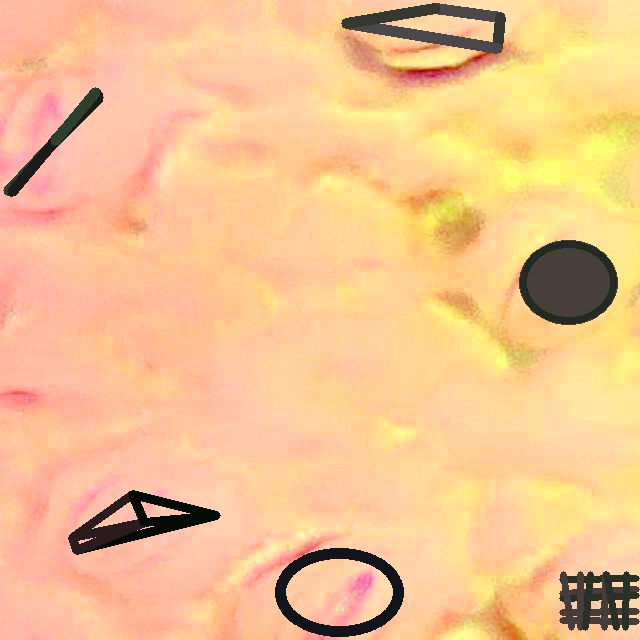close: (68, 490, 220, 553), (519, 240, 616, 324), (341, 4, 505, 53), (559, 571, 639, 630)
open: (274, 548, 404, 637), (8, 87, 102, 194)
